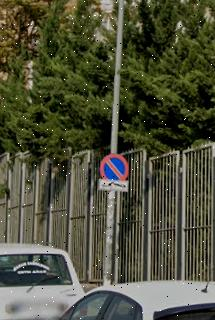nopark: (100, 154, 130, 182)
